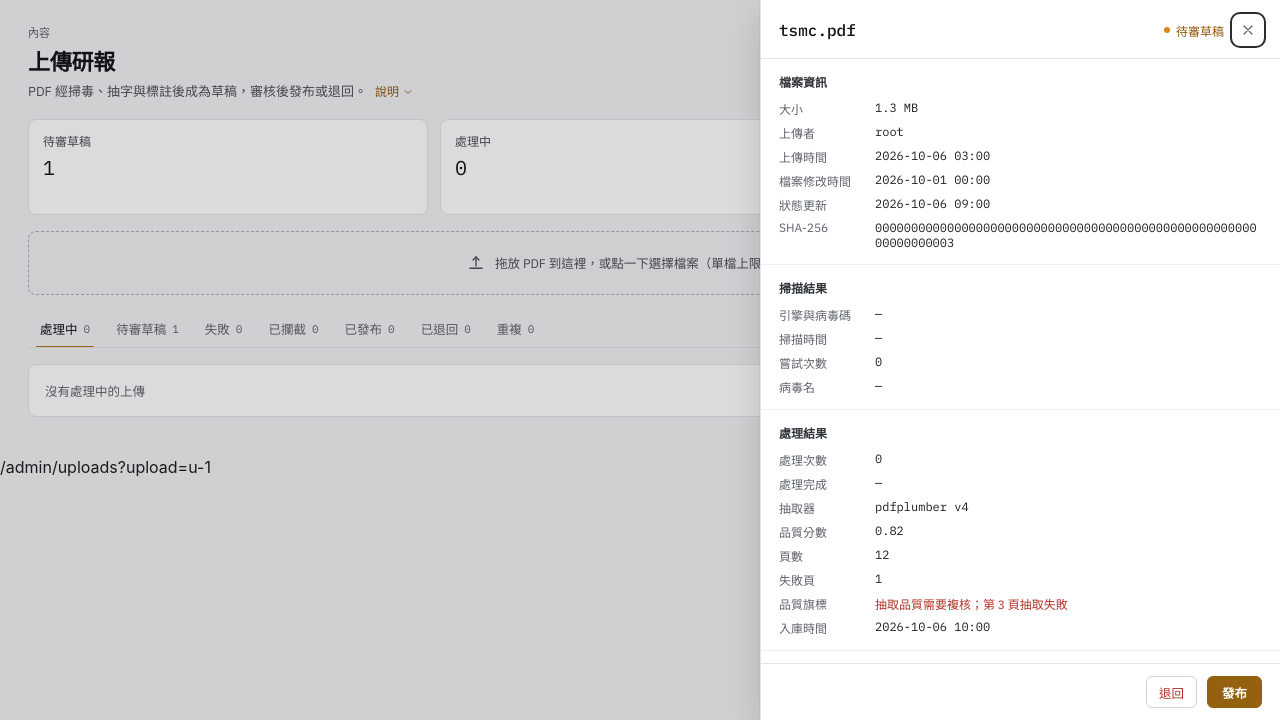
Test: 退回遇到 409 upload_busy：在表單裡顯示中文說明
The width and height of the screenshot is (1280, 720).
Click the button "退回". click: (1172, 692)
box: [1146,676,1197,708]
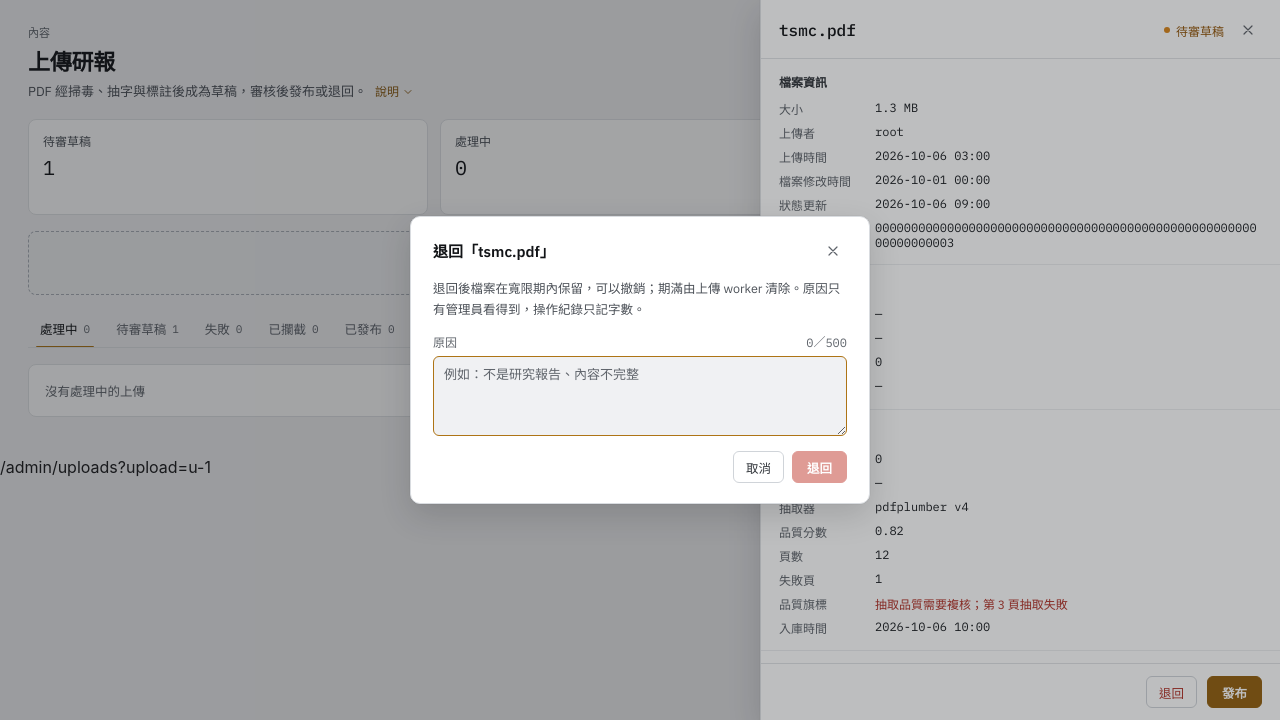
Type "重複" into the text box. click: (640, 396)
box: [433,356,847,436]
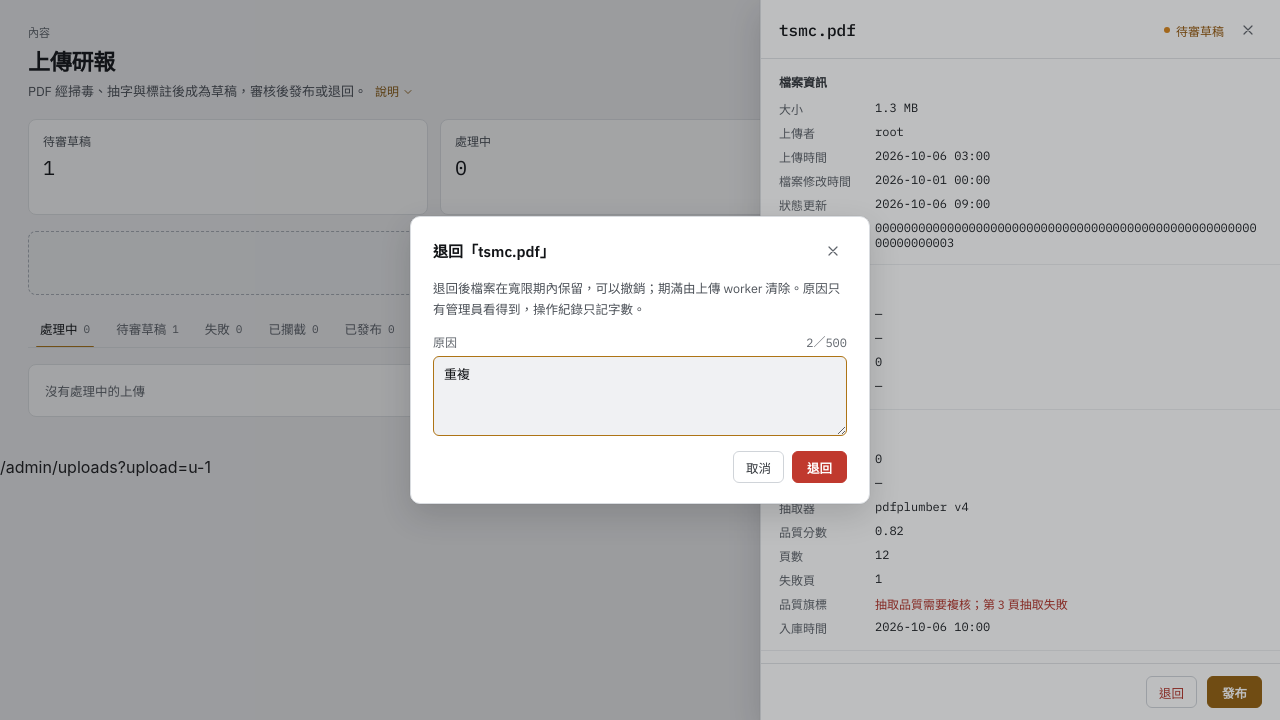
Click the button "退回". click: (820, 467)
box: [792,451,847,483]
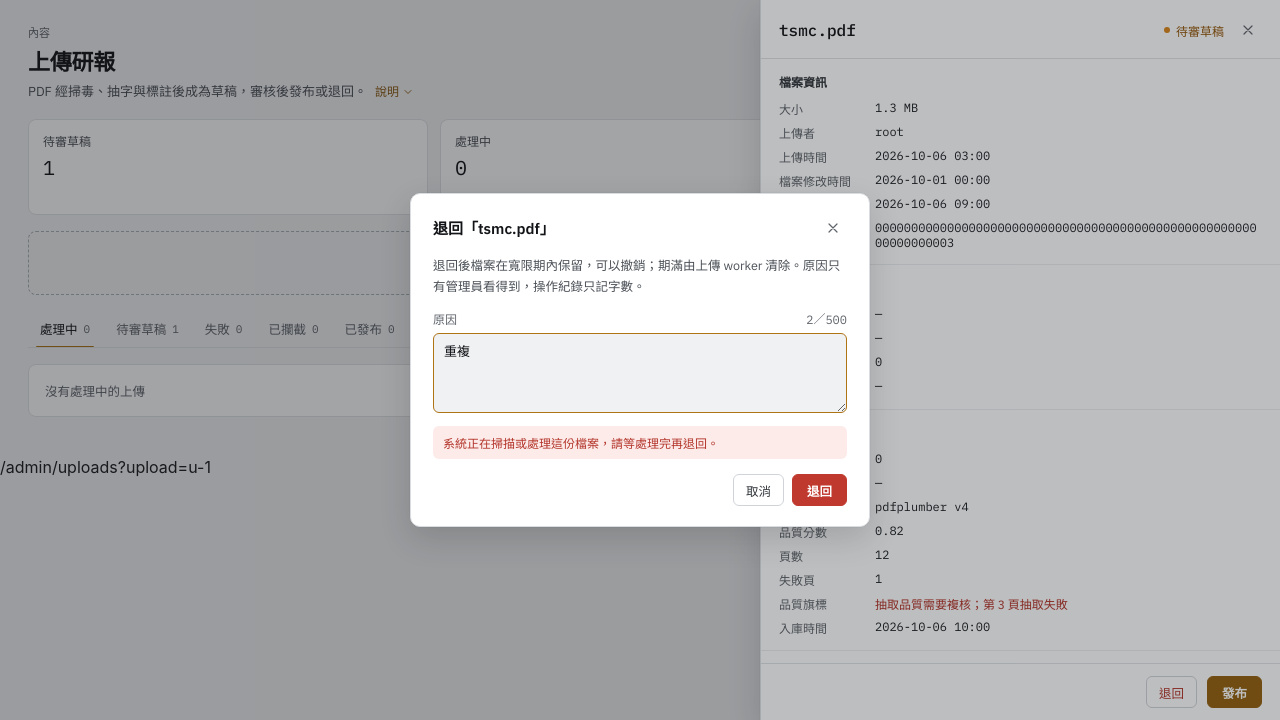
Expected: the message reads "系統正在掃描或處理這份檔案，請等處理完再退回。", [443,436,719,451]
